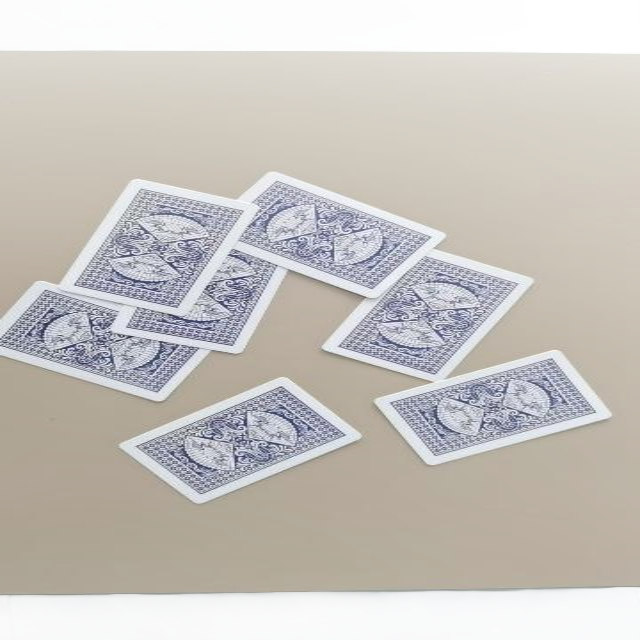card: (120, 378, 362, 504), (322, 250, 533, 381), (60, 180, 260, 315), (233, 171, 444, 298), (376, 351, 611, 465), (0, 281, 209, 401), (113, 250, 287, 354)
